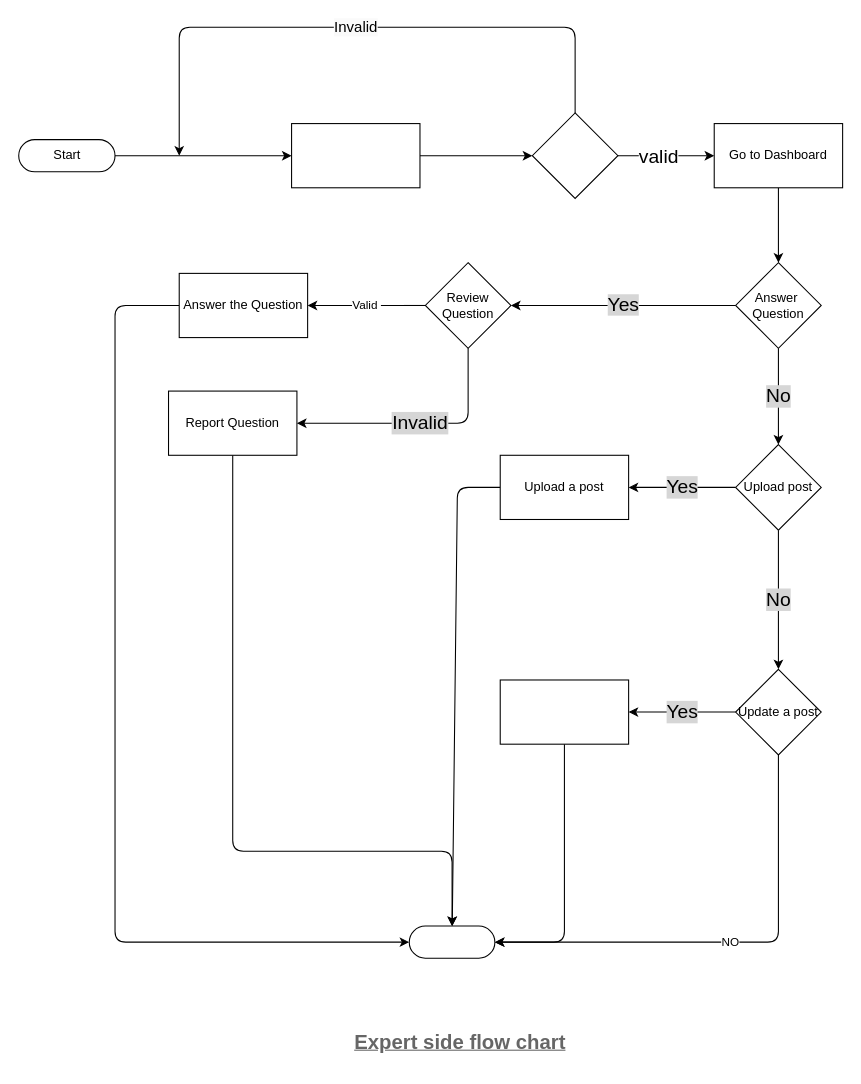
The diagram is 861 pixels wide and 1084 high, and some of its shapes have lost their labels. Here are the shapes that lost their labels. From the top down, the centre of each, then its label:
At pixel 355 155: "Enter Credentials detail and password".
At pixel 574 155: "Authenticate".
At pixel 564 711: "Update post".
At pixel 451 941: "End".
